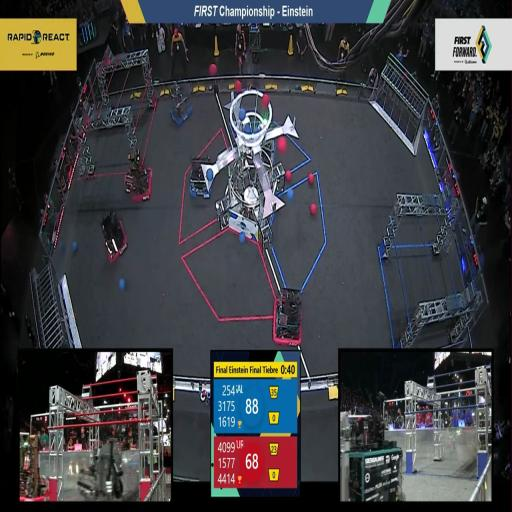robot: (78, 435, 124, 501), (19, 432, 51, 501), (272, 294, 302, 348), (123, 150, 153, 204), (100, 210, 128, 262), (167, 80, 193, 126), (187, 153, 214, 197)
